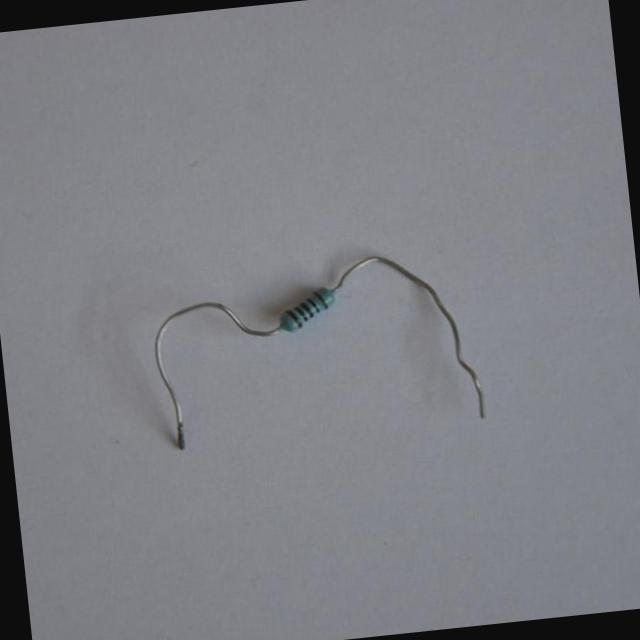Resistor: (271, 279, 339, 339)
black: (299, 304, 313, 321), (305, 299, 319, 314), (293, 307, 306, 322)
brown: (311, 292, 327, 312), (285, 311, 301, 329)
